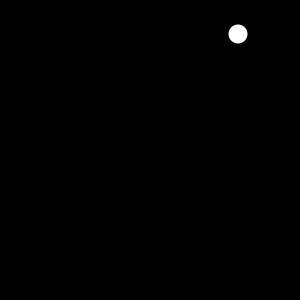rectangle: (228, 24, 248, 44)
